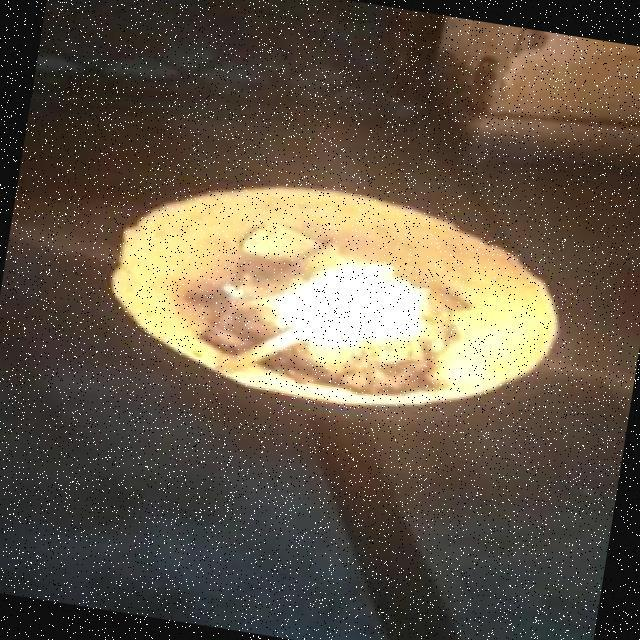Fire: (237, 239, 460, 382)
